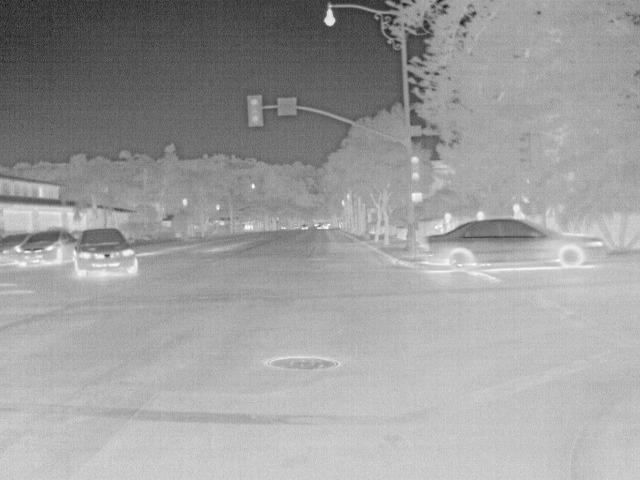car: (426, 218, 609, 271), (72, 228, 140, 278), (13, 229, 75, 265), (1, 233, 35, 267)
person: (434, 213, 455, 235), (511, 202, 528, 222), (473, 209, 486, 222)
